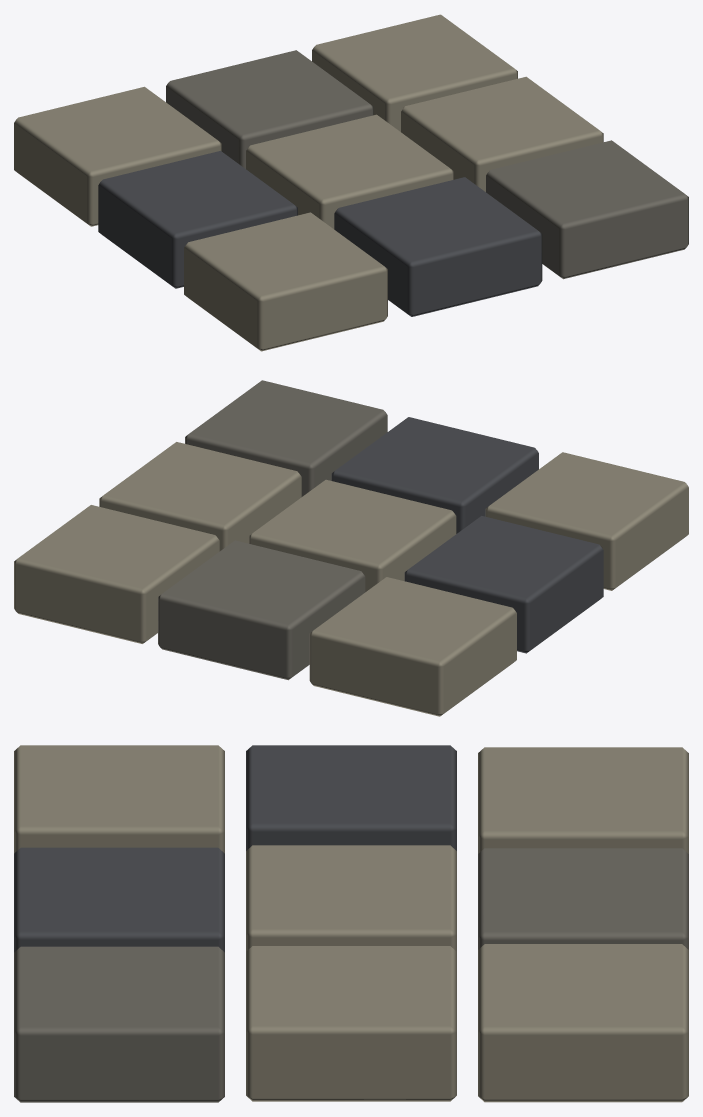
Rendered from village-cobble-c.cca62416.glb.
The picture shows the model from 3 angles, top to bottom: view 1: azimuth 30°, elevation 25°; view 2: azimuth 150°, elevation 25°; view 3: azimuth 270°, elevation 25°; orthographic projection. The views are drawn at different scales.
Visible parts, largest first — view 1: body; view 2: body; view 3: body.
Boxes of the visible parts, box(x1,y1,x2,y2) form: body: box(14, 14, 688, 351); body: box(14, 380, 688, 716); body: box(14, 745, 688, 1102).
Bounding box in the file's own units: 0.9705 × 0.125 × 0.969.
